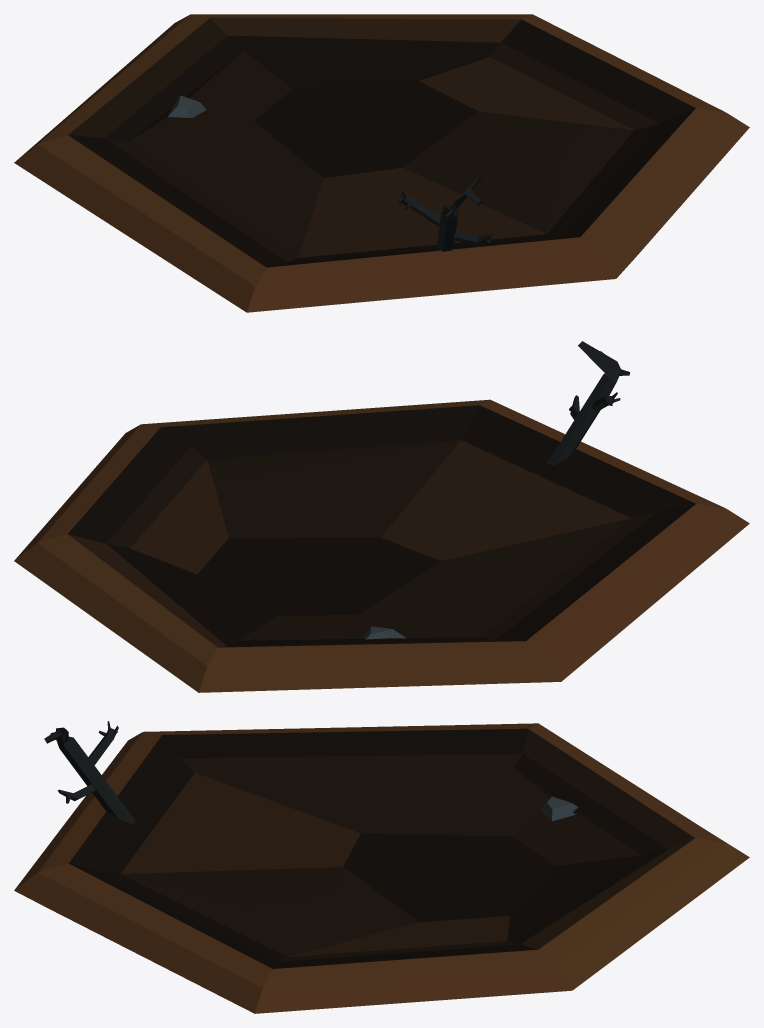
File: CraterB.fbx
The picture shows the model from 3 angles, top to bottom: view 1: azimuth 30°, elevation 25°; view 2: azimuth 150°, elevation 25°; view 3: azimuth 270°, elevation 25°; orthographic projection.
Visible parts, largest first — view 1: Cylinder.007; view 2: Cylinder.007; view 3: Cylinder.007.
Boxes of the visible parts, x1,y1,x2,y2 form: Cylinder.007: (14,14,749,312); Cylinder.007: (14,341,749,692); Cylinder.007: (14,721,749,1013).
Bounding box in the file's own units: 7411 × 1682 × 8129.
Materials: 1 (1 with a texture image).
